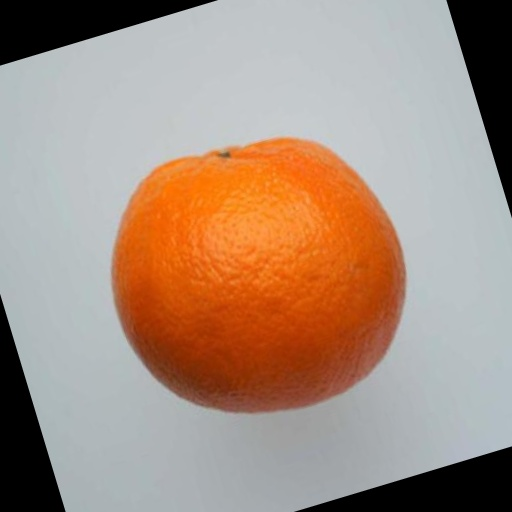fruit: (36, 184, 266, 512)
